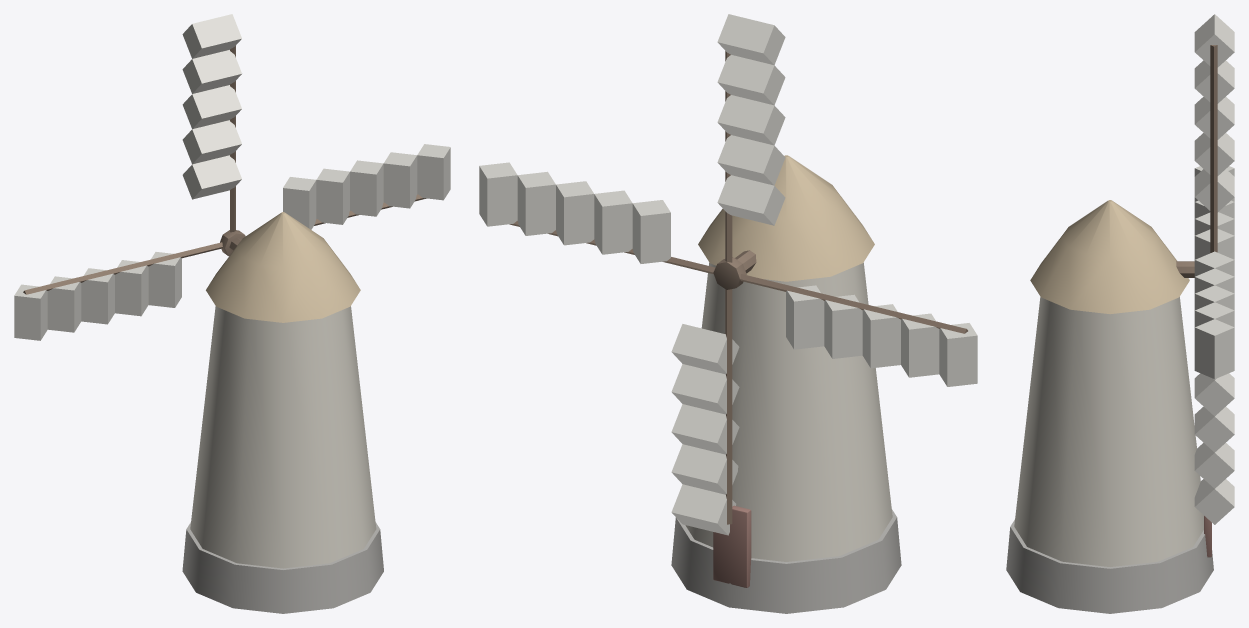
File: windmill.gltf
The picture shows the model from 3 angles, left to right: view 1: azimuth 30°, elevation 25°; view 2: azimuth 150°, elevation 25°; view 3: azimuth 270°, elevation 25°; orthographic projection. The views are drawn at different scales.
Parts seen in each view (by area): view 1: Body, Sails; view 2: Body, Sails; view 3: Body, Sails.
Part boxes in pixels (x1,y1,x2,y2): Body: (182, 212, 383, 613); Sails: (14, 14, 450, 340); Body: (671, 155, 901, 613); Sails: (479, 14, 977, 535); Body: (1006, 200, 1213, 613); Sails: (1194, 14, 1234, 524).
Size of the model in its own units: 13 by 14.8 by 5.72.
